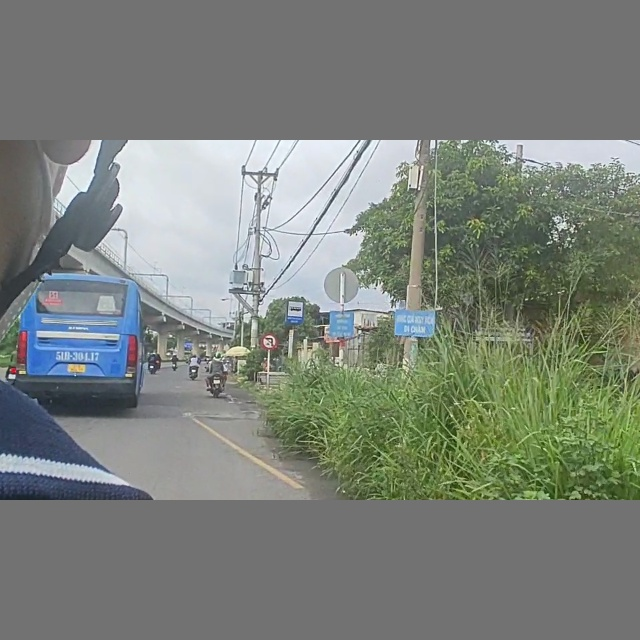I.434a: (287, 299, 305, 325)
P.123a: (261, 333, 279, 349)
